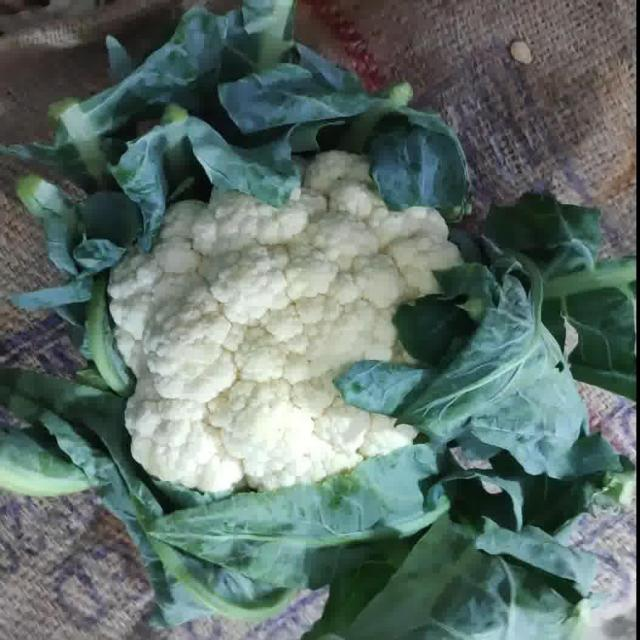Cauliflower: (106, 144, 472, 494)
